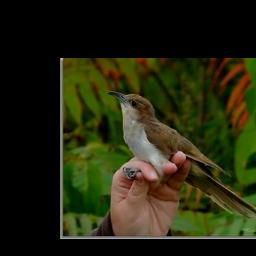Cuckoo: (107, 91, 256, 221)
